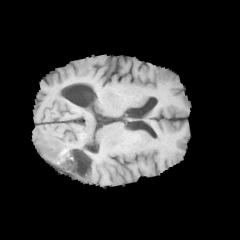glioma: (40, 138, 95, 184)
